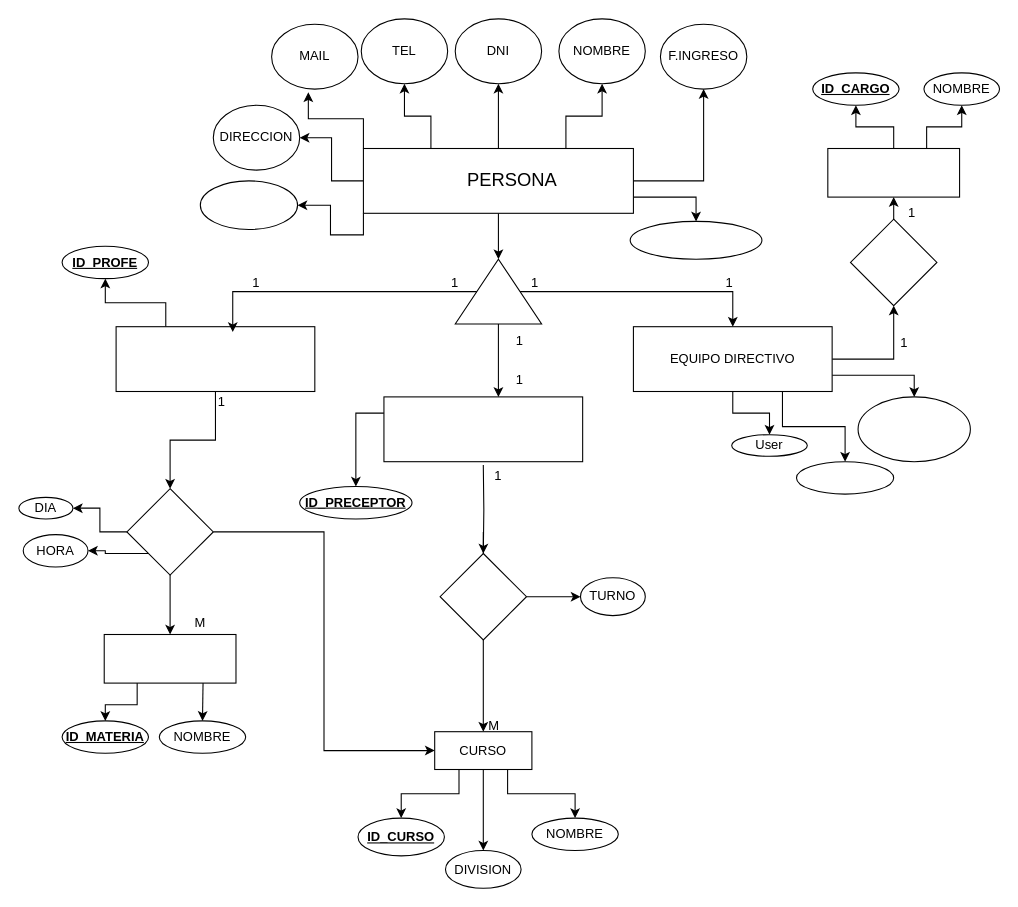
Image size: 1018x907. Some labels were removed from this diagram. The box of each missing label's shape, as (x1, y1, x2, y2) in pixels:
A CARGO: (439, 552, 526, 640)
APELLIDO: (629, 220, 762, 259)
CARGO: (827, 147, 960, 197)
CONTRASEÑA: (795, 461, 894, 494)
DICTA: (126, 488, 213, 575)
ID_EQUIPO: (857, 396, 970, 462)
ID_PERSONA: (199, 180, 298, 230)
MATERIA: (103, 633, 236, 683)
OCUPA: (849, 218, 937, 306)
PRECEPTOR: (383, 396, 583, 462)
PROFE: (115, 326, 315, 392)
